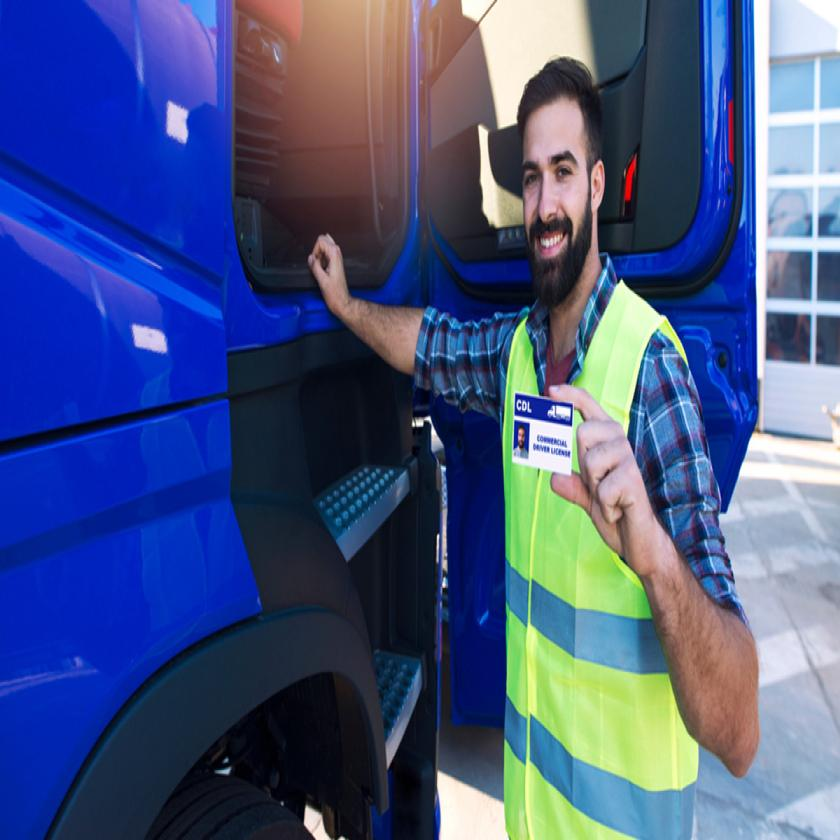Sin_casco: (513, 46, 610, 298)
